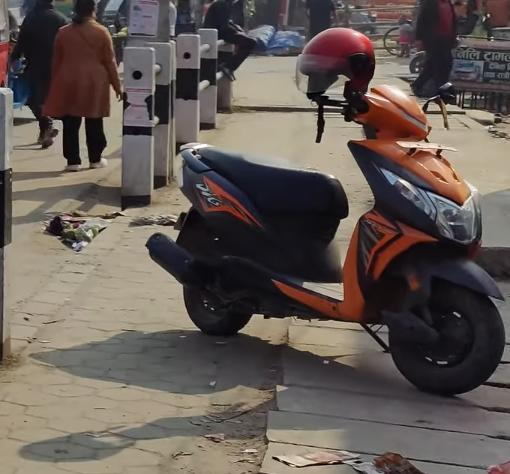scooter: (147, 64, 510, 399)
